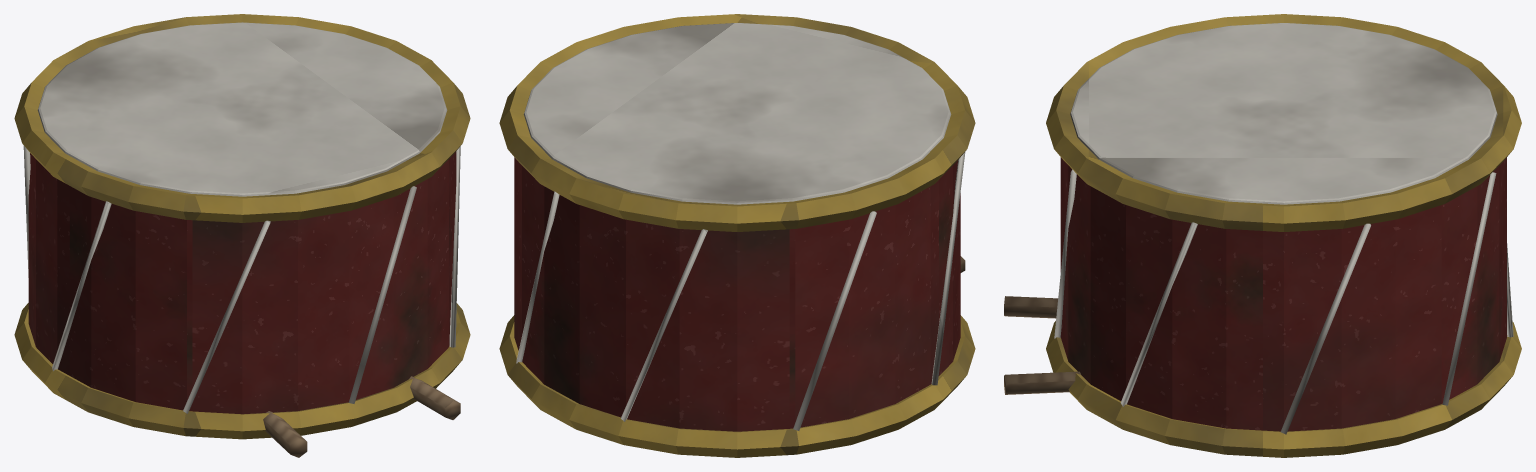
File: TY04_toy_drum.glb
The picture shows the model from 3 angles, left to right: view 1: azimuth 30°, elevation 25°; view 2: azimuth 150°, elevation 25°; view 3: azimuth 270°, elevation 25°; orthographic projection. The views are drawn at different scales.
Parts seen in each view (by area): view 1: TY04_toy_drum; view 2: TY04_toy_drum; view 3: TY04_toy_drum.
Part boxes in pixels (<box>): TY04_toy_drum: <box>14,14,470,457</box>; TY04_toy_drum: <box>499,14,975,457</box>; TY04_toy_drum: <box>1004,14,1521,457</box>.
Bounding box in the file's own units: 0.2757 × 0.1607 × 0.3.
Materials: 4 (4 with a texture image).
